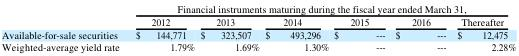table: (0, 1, 515, 52)
table column: (0, 1, 126, 52), (126, 1, 197, 52), (261, 1, 330, 52), (197, 1, 261, 52), (451, 1, 515, 52), (389, 1, 451, 52), (330, 1, 389, 52)
table column header: (0, 1, 515, 27)
table row: (0, 1, 515, 14), (0, 14, 515, 27), (0, 27, 515, 40), (0, 40, 515, 52)
table spanning cell: (126, 1, 515, 14)
